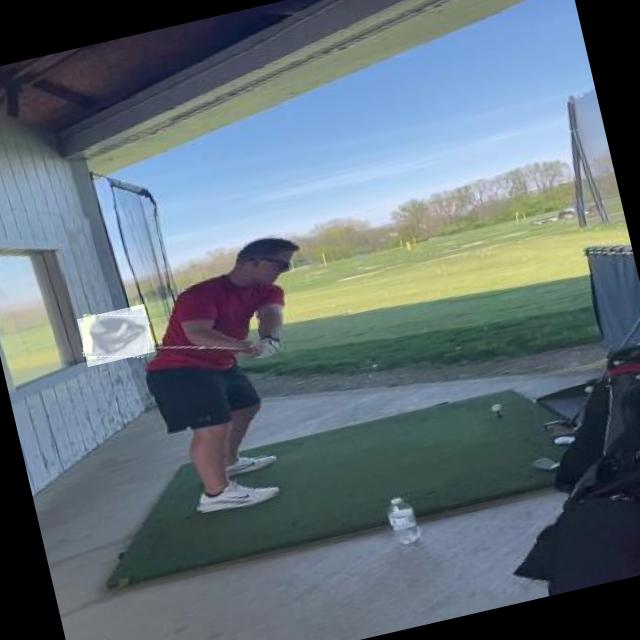club head: (76, 304, 154, 366)
